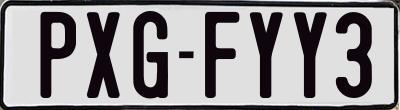3: (336, 11, 374, 99)
F: (203, 9, 237, 96)
G: (133, 10, 171, 104)
P: (40, 10, 82, 97)
X: (86, 12, 121, 102)
Y: (294, 12, 331, 102), (249, 12, 282, 101)
